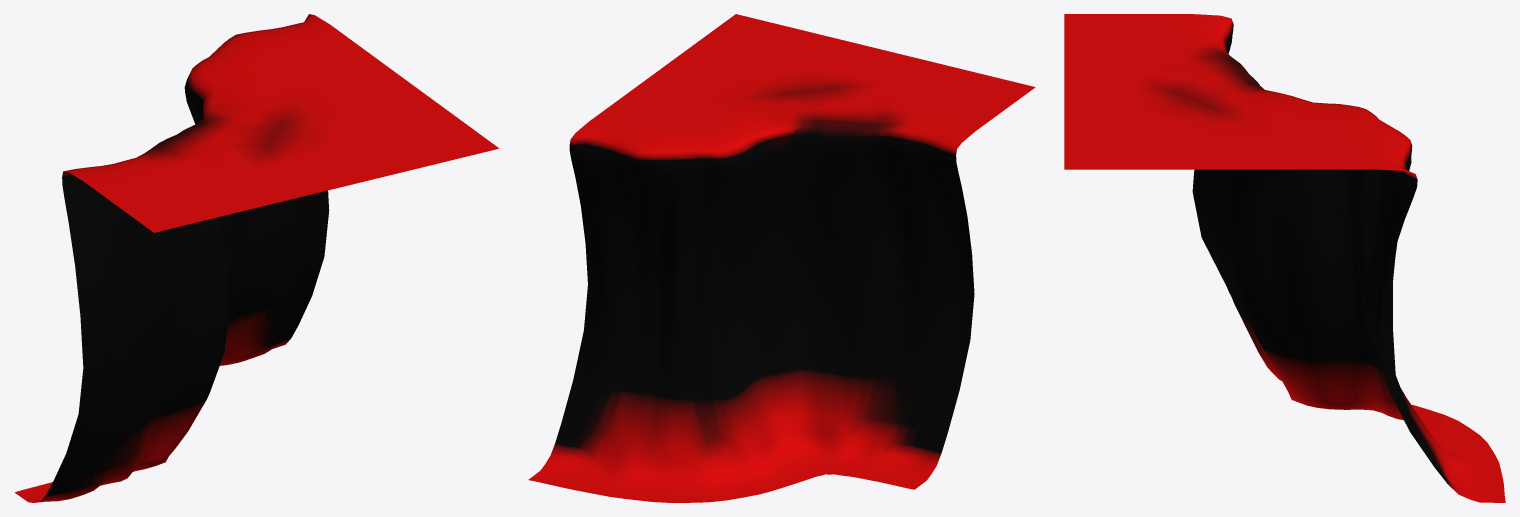
Rendered from GroundCliff05C 2M Foreground.fbx.
The picture shows the model from 3 angles, left to right: view 1: azimuth 30°, elevation 25°; view 2: azimuth 150°, elevation 25°; view 3: azimuth 270°, elevation 25°; orthographic projection. The views are drawn at different scales.
Parts seen in each view (by area): view 1: GroundCliff05C 2M Foreground; view 2: GroundCliff05C 2M Foreground; view 3: GroundCliff05C 2M Foreground.
Part boxes in pixels (x1=…): GroundCliff05C 2M Foreground: x1=14, y1=14, x2=499, y2=502; GroundCliff05C 2M Foreground: x1=528, y1=14, x2=1035, y2=502; GroundCliff05C 2M Foreground: x1=1064, y1=14, x2=1505, y2=502.
Size of the model in its own units: 2 by 2 by 2.4.
